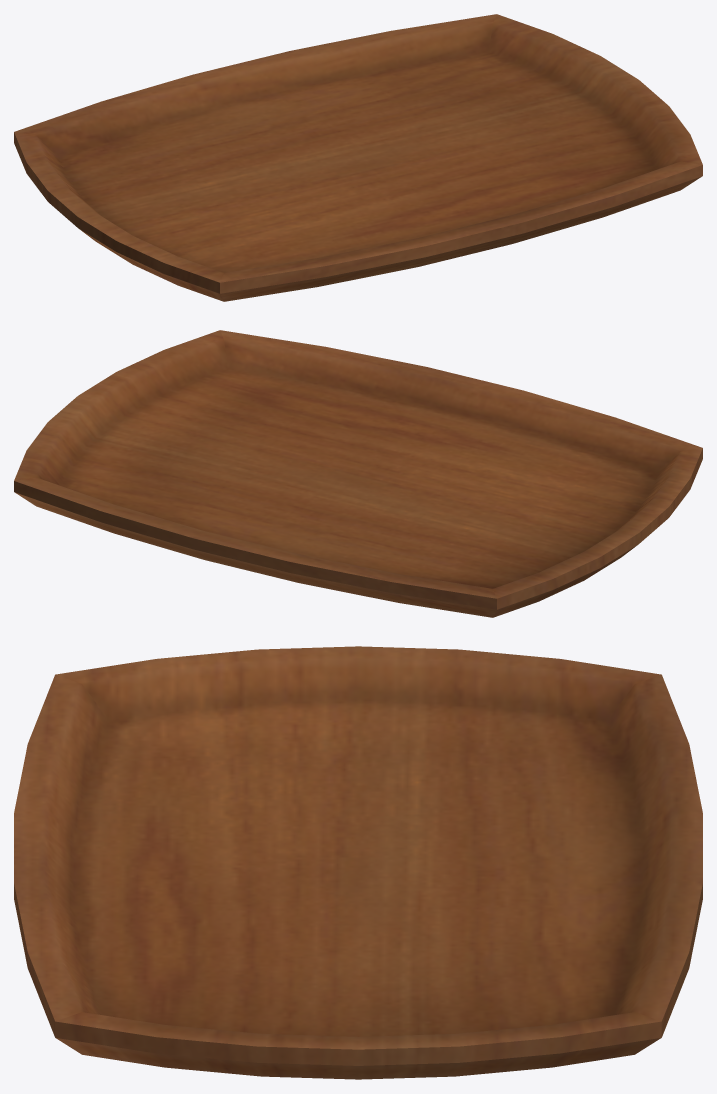
Rendered from GardenTableWear01_8.FBX.
The picture shows the model from 3 angles, top to bottom: view 1: azimuth 30°, elevation 25°; view 2: azimuth 150°, elevation 25°; view 3: azimuth 270°, elevation 25°; orthographic projection. The views are drawn at different scales.
Parts seen in each view (by area): view 1: GardenTableWear01_8; view 2: GardenTableWear01_8; view 3: GardenTableWear01_8.
Part boxes in pixels (box(x1,y1,x2,y2)): GardenTableWear01_8: box(14, 14, 702, 301); GardenTableWear01_8: box(14, 330, 702, 617); GardenTableWear01_8: box(14, 646, 702, 1079).
Size of what is drawn, in the model's own units: 0.4396 by 0.0217 by 0.3174.
